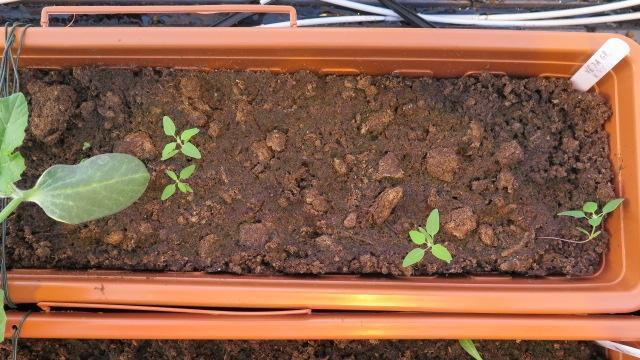weed: (398, 206, 454, 268), (157, 112, 205, 160), (155, 162, 199, 202)
